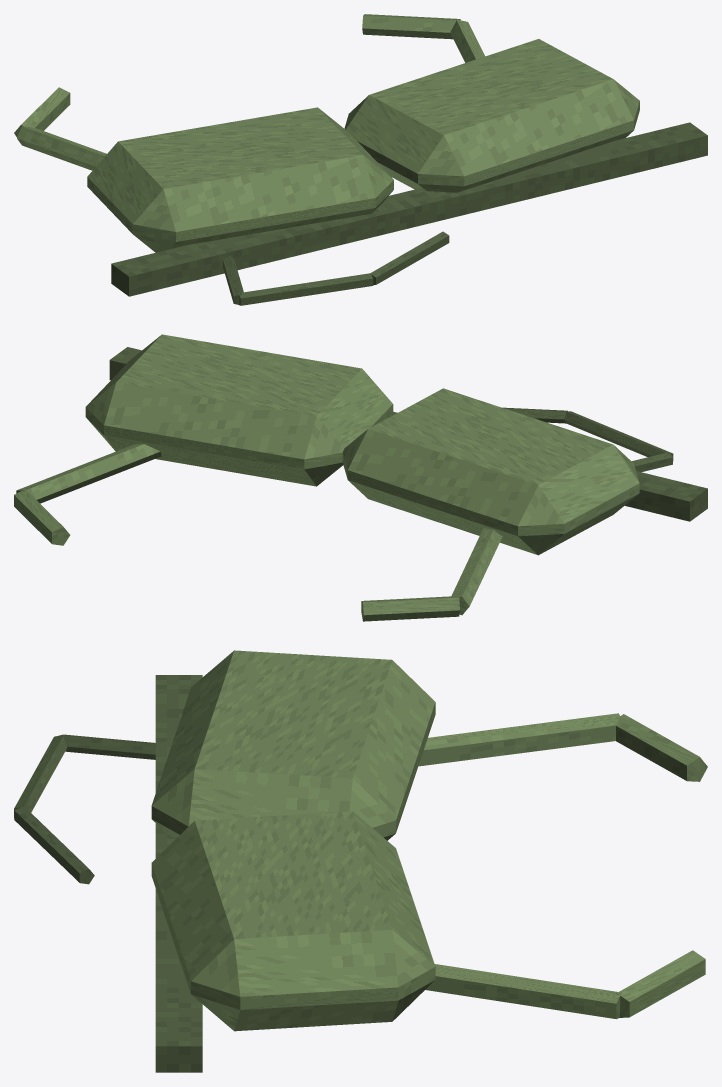
File: bikini_top.glb
The picture shows the model from 3 angles, top to bottom: view 1: azimuth 30°, elevation 25°; view 2: azimuth 150°, elevation 25°; view 3: azimuth 270°, elevation 25°; orthographic projection. The views are drawn at different scales.
Parts seen in each view (by area): view 1: block_shaped cup (×2), block_underband, block_strap 1 (×2), block_strap 0 (×2), block_ties 1, block_ties 2, block_ties 0; view 2: block_shaped cup (×2), block_strap 0 (×2), block_strap 1 (×2), block_underband, block_ties 1, block_ties 2, block_ties 0; view 3: block_shaped cup (×2), block_strap 0 (×2), block_underband, block_strap 1 (×2), block_ties 2, block_ties 0, block_ties 1.
Boxes of the visible parts, left/top/right/bottom form: block_shaped cup (×2): left=87, top=39, right=639, bottom=252; block_underband: left=111, top=122, right=707, bottom=296; block_strap 1 (×2): left=14, top=14, right=460, bottom=137; block_strap 0 (×2): left=17, top=19, right=485, bottom=170; block_ties 1: left=238, top=273, right=373, bottom=305; block_ties 2: left=370, top=231, right=449, bottom=285; block_ties 0: left=223, top=256, right=243, bottom=304; block_shaped cup (×2): left=85, top=334, right=639, bottom=555; block_strap 0 (×2): left=16, top=444, right=502, bottom=615; block_strap 1 (×2): left=14, top=489, right=459, bottom=621; block_underband: left=109, top=347, right=707, bottom=521; block_ties 1: left=564, top=411, right=673, bottom=460; block_ties 2: left=502, top=407, right=567, bottom=423; block_ties 0: left=631, top=452, right=673, bottom=472; block_shaped cup (×2): left=151, top=650, right=435, bottom=1031; block_strap 0 (×2): left=418, top=713, right=621, bottom=1019; block_underband: left=155, top=675, right=202, bottom=1072; block_strap 1 (×2): left=616, top=714, right=707, bottom=1017; block_ties 2: left=14, top=806, right=94, bottom=884; block_ties 0: left=59, top=734, right=155, bottom=759; block_ties 1: left=14, top=734, right=67, bottom=817.
Bounding box in the file's own units: 0.242 × 0.0284 × 0.1912.
Materials: 1 (1 with a texture image).
